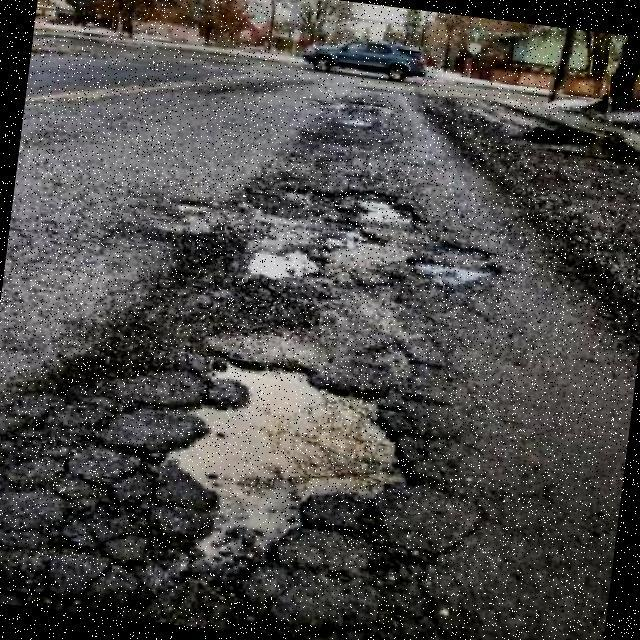Pothole: (169, 364, 410, 574), (274, 182, 425, 247), (405, 261, 495, 286), (247, 250, 319, 280), (412, 242, 495, 266), (174, 201, 214, 211)
